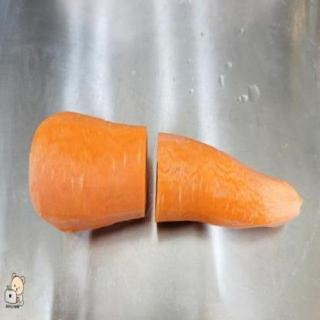carrot: (152, 126, 305, 233), (28, 110, 150, 236)
